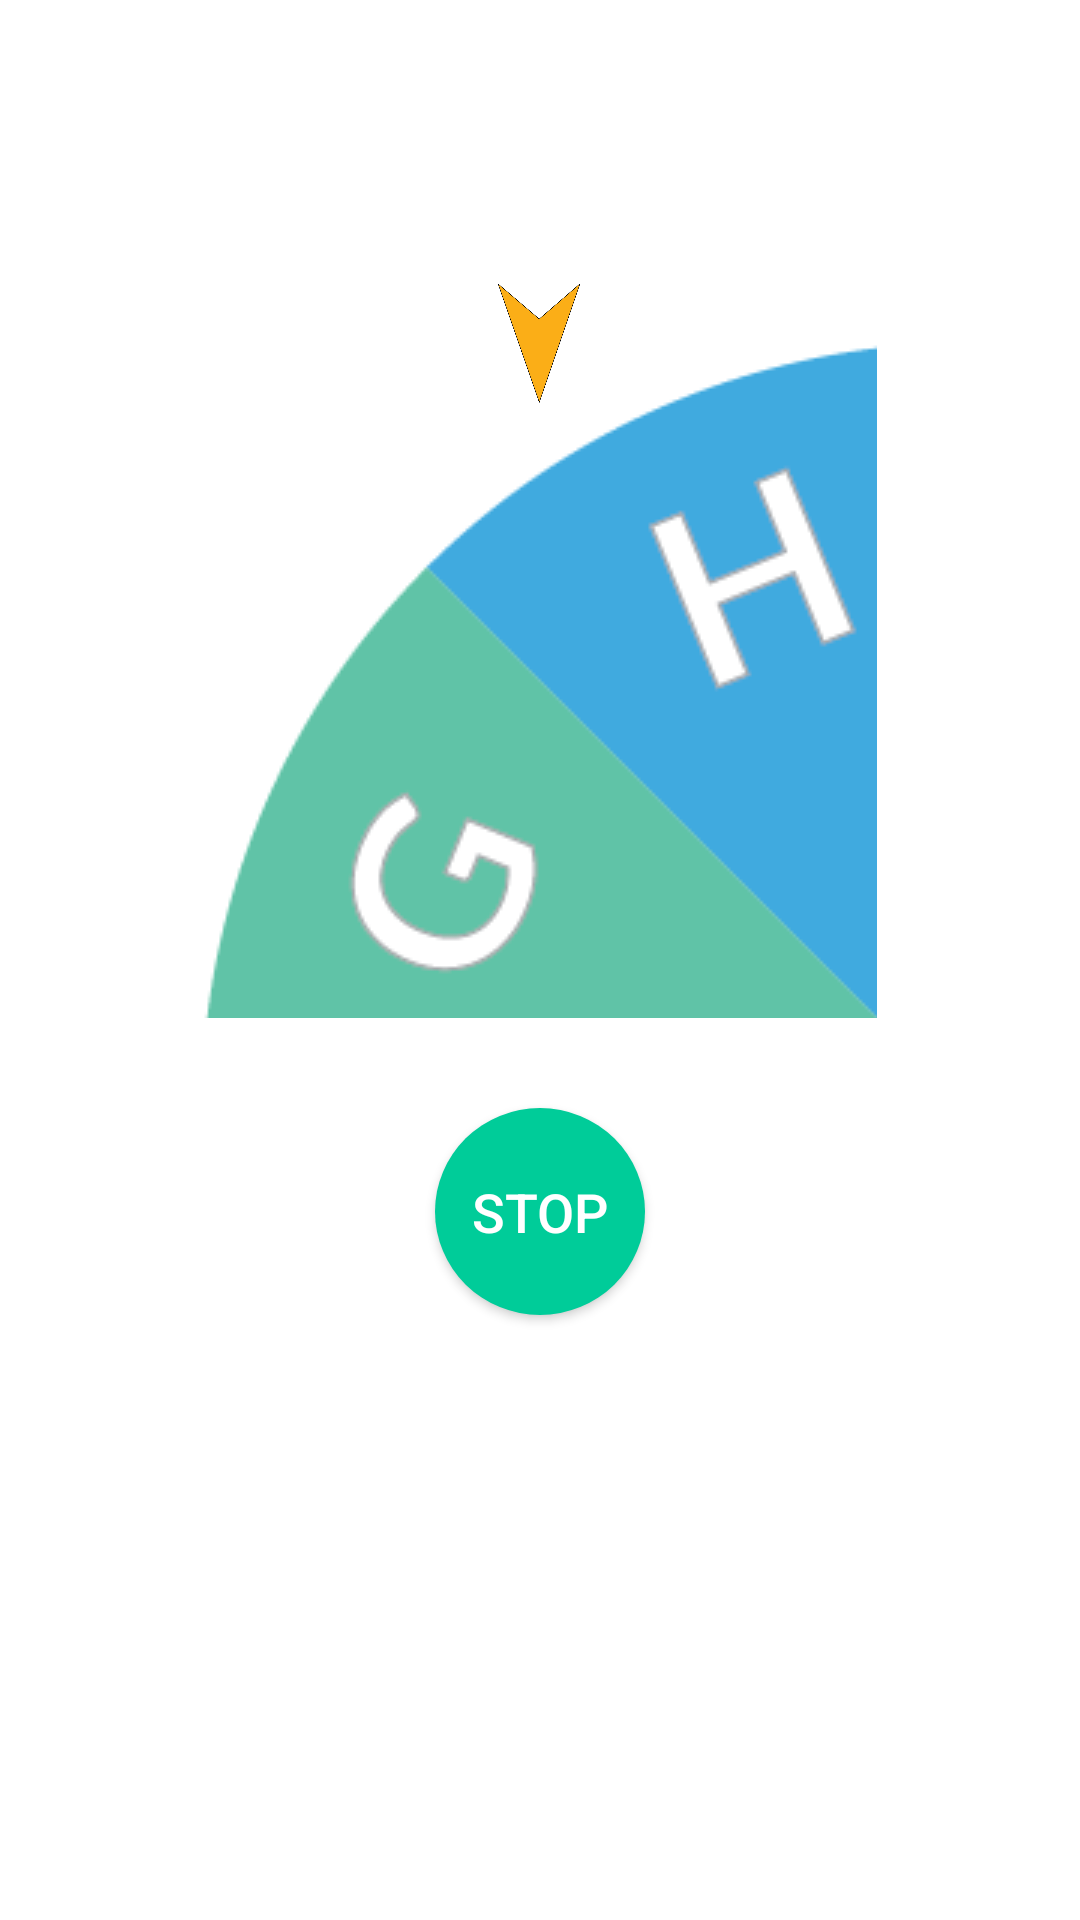

Icons on this 1080w x 1920h Android screen, each with the point to tap as [x,y]:
arrow: [539,343]
